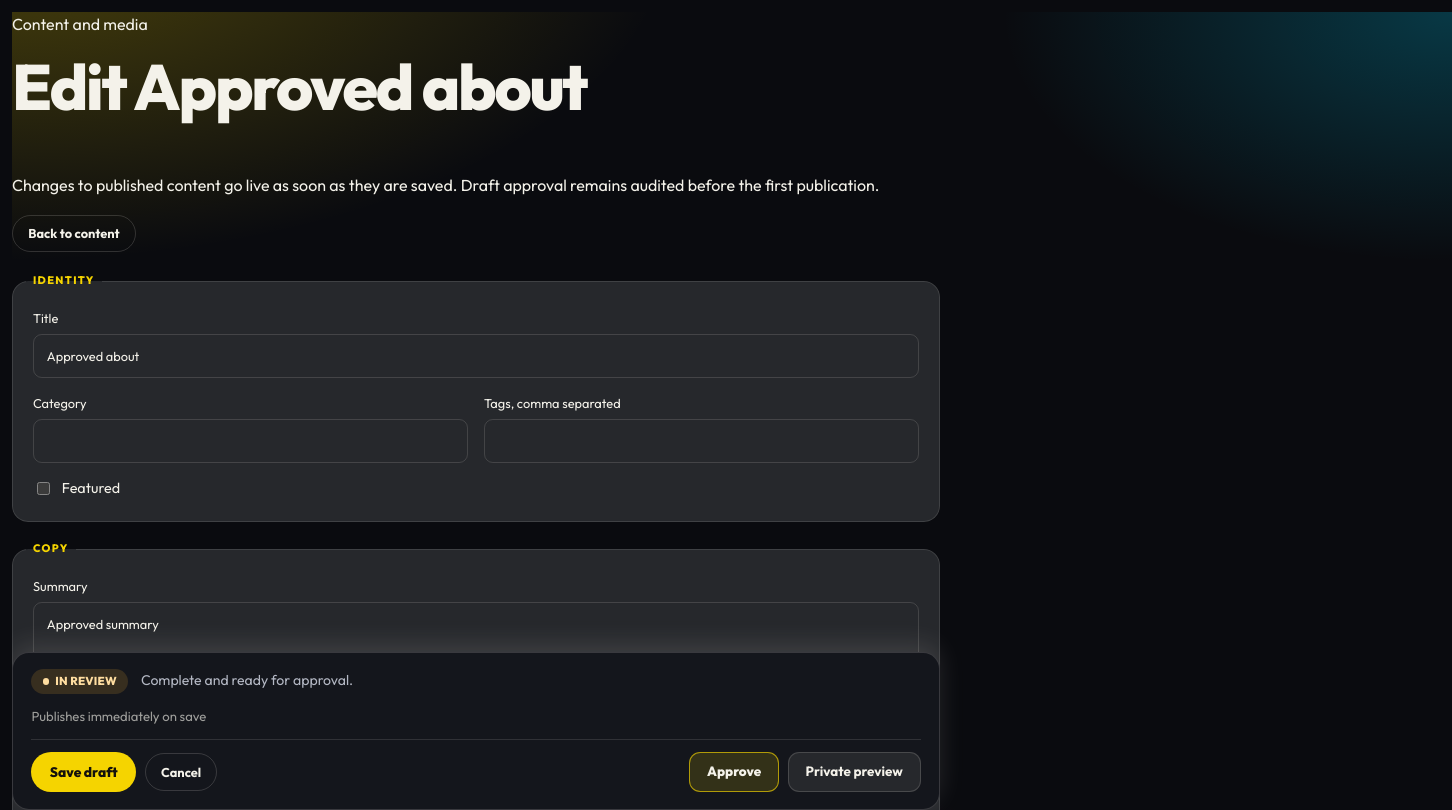
Test case: explains a 422 rejection
Click the button "Save draft" at (84,772), box [31,752,136,792]
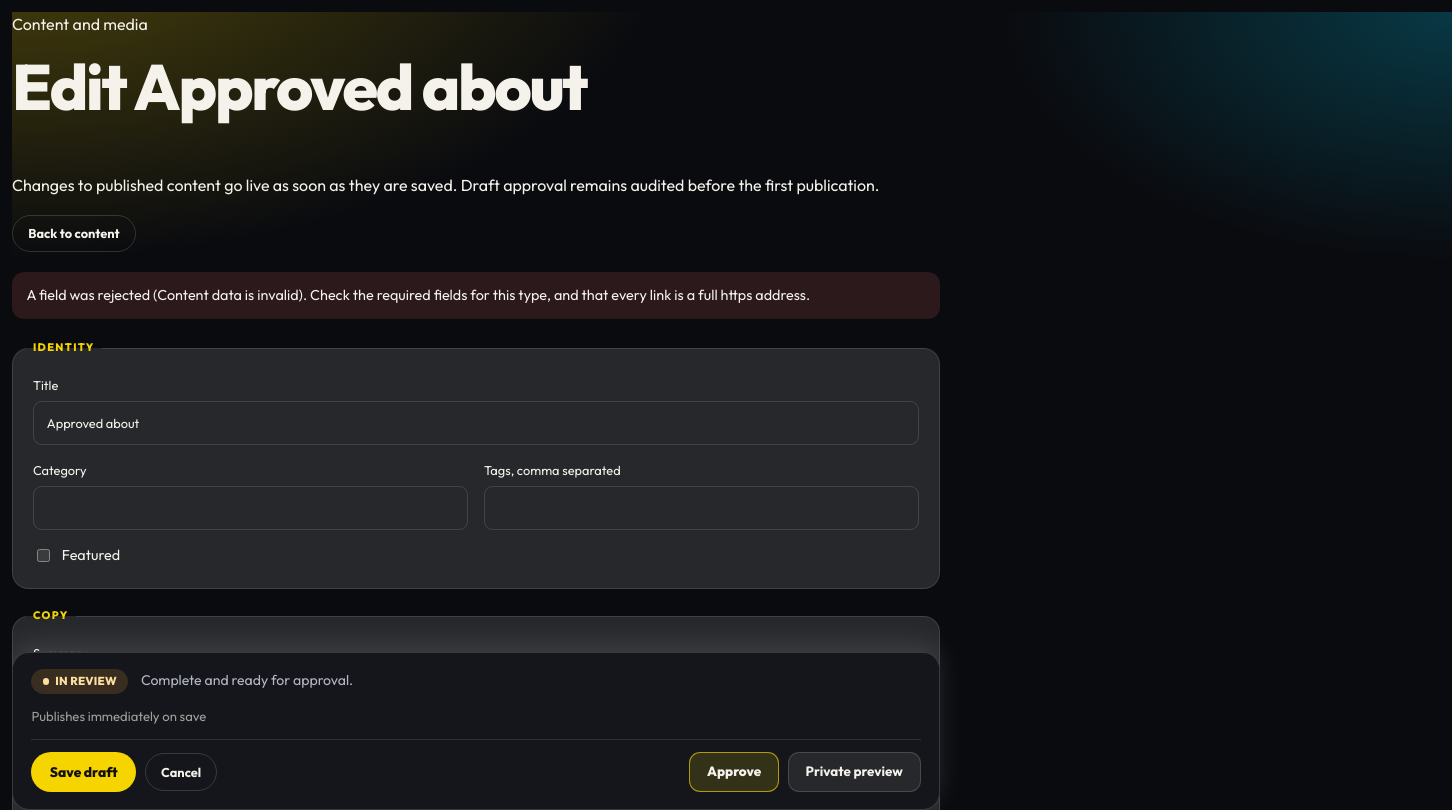
Result: the 1st message shows "A field was rejected (Content data is invalid)" at [26,286,810,304]
